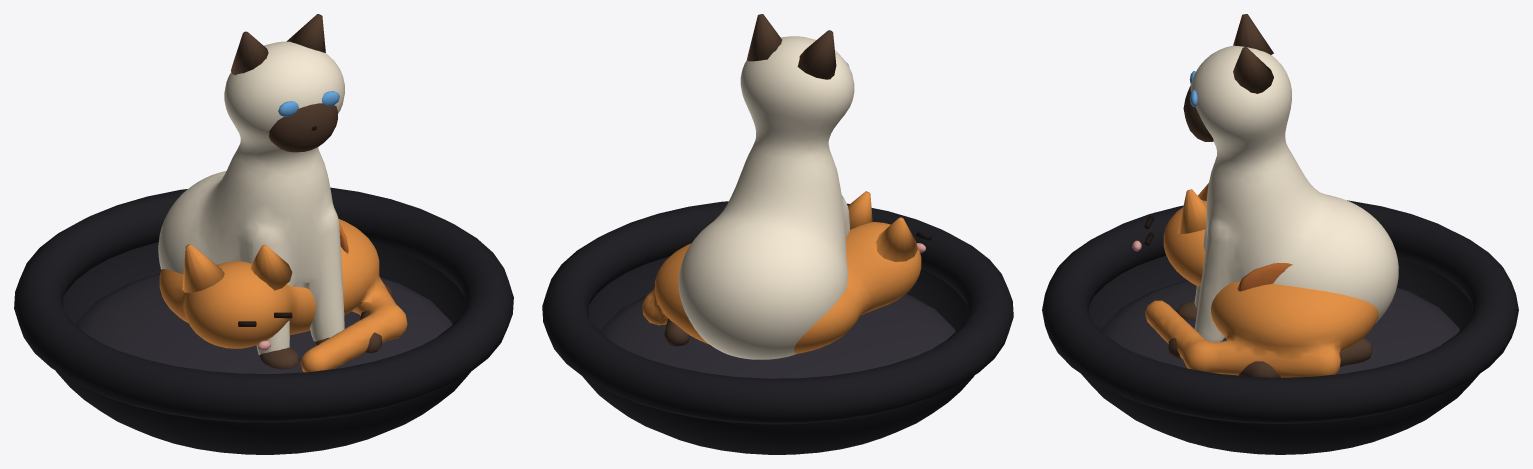
File: pets.glb
3 renders of one model, left to right at view 1: azimuth 30°, elevation 25°; view 2: azimuth 150°, elevation 25°; view 3: azimuth 270°, elevation 25°, orthographic. The views are drawn at different scales.
Parts seen in each view (by area): view 1: OrangeRim, SiameseBody.001, OrangeBowl, OrangeBody.001, OrangeCushion, SiamesePoints.001, OrangeEar-1, OrangeEar1, SiameseEar-1, SiameseEar1, SiamesePaw-1; view 2: OrangeRim, SiameseBody.001, OrangeBowl, OrangeCushion, OrangeBody.001, SiameseEar-1, OrangeEar-1, SiameseEar1, OrangeEar1, SiamesePoints.001; view 3: OrangeRim, SiameseBody.001, OrangeBody.001, OrangeBowl, OrangeCushion, SiamesePoints.001, SiameseEar1, OrangeEar1, SiameseEar-1, OrangeStripe2.
Boxes of the visible parts, left/top/right/bottom form: OrangeRim: left=14, top=187, right=513, bottom=422; SiameseBody.001: left=158, top=41, right=344, bottom=355; OrangeBowl: left=56, top=242, right=470, bottom=454; OrangeBody.001: left=159, top=218, right=407, bottom=372; OrangeCushion: left=75, top=273, right=452, bottom=373; SiamesePoints.001: left=269, top=103, right=393, bottom=353; OrangeEar-1: left=182, top=244, right=224, bottom=292; OrangeEar1: left=251, top=244, right=292, bottom=290; SiameseEar-1: left=231, top=31, right=268, bottom=75; SiameseEar1: left=286, top=14, right=325, bottom=52; SiamesePaw-1: left=259, top=347, right=299, bottom=369; OrangeRim: left=542, top=201, right=1013, bottom=424; SiameseBody.001: left=678, top=36, right=854, bottom=359; OrangeBowl: left=583, top=256, right=974, bottom=454; OrangeCushion: left=600, top=293, right=955, bottom=378; OrangeBody.001: left=642, top=222, right=921, bottom=353; SiameseEar-1: left=797, top=30, right=836, bottom=79; OrangeEar-1: left=876, top=217, right=917, bottom=261; SiameseEar1: left=747, top=14, right=781, bottom=61; OrangeEar1: left=848, top=191, right=872, bottom=229; SiamesePoints.001: left=664, top=318, right=690, bottom=346; OrangeRim: left=1042, top=200, right=1518, bottom=423; SiameseBody.001: left=1190, top=45, right=1398, bottom=342; OrangeBody.001: left=1145, top=200, right=1378, bottom=377; OrangeBowl: left=1081, top=256, right=1479, bottom=454; OrangeCushion: left=1101, top=280, right=1459, bottom=375; SiamesePoints.001: left=1168, top=85, right=1372, bottom=377; SiameseEar1: left=1233, top=47, right=1273, bottom=93; OrangeEar1: left=1178, top=189, right=1206, bottom=234; SiameseEar-1: left=1233, top=14, right=1273, bottom=54; OrangeStripe2: left=1237, top=263, right=1292, bottom=291.
Bounding box in the file's own units: 1.33 × 1.2 × 1.33.
